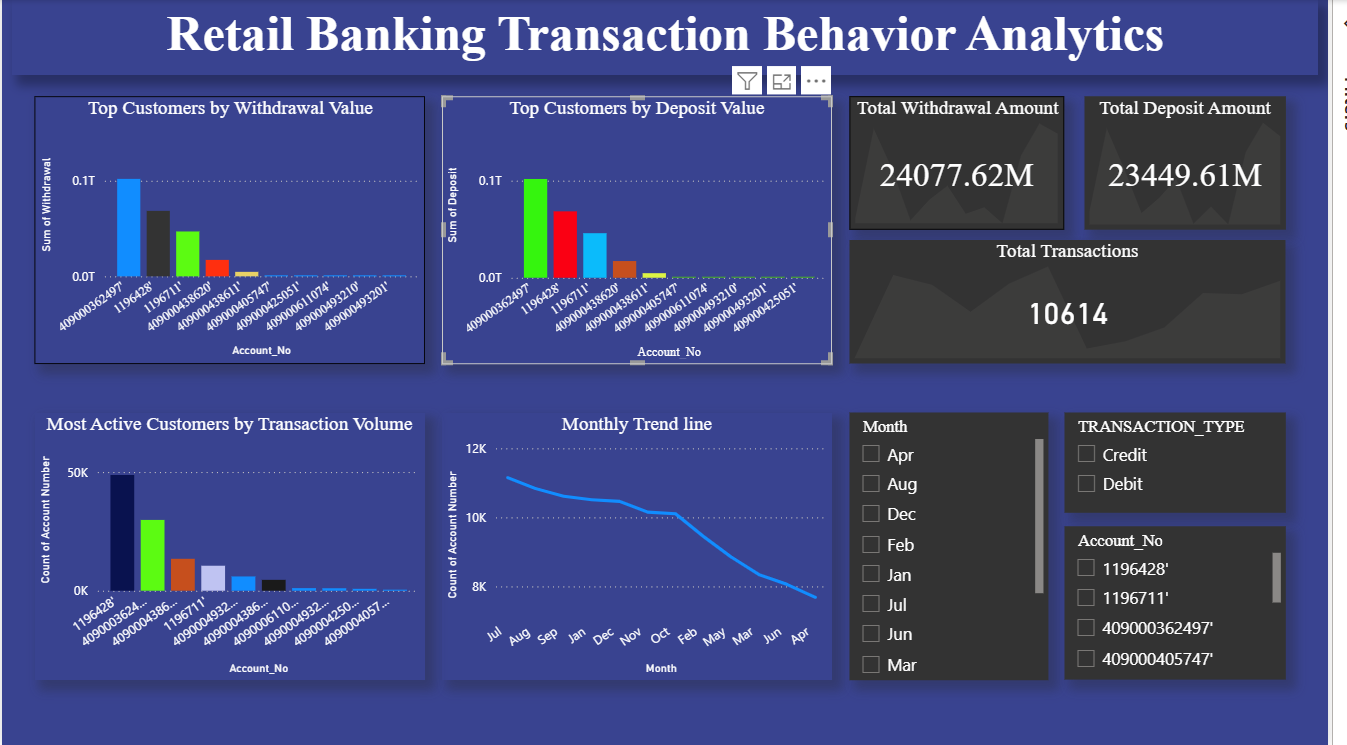

This screenshot's page, from the dashboard's own definition file:
{"tool":"powerbi","page":{"name":"Page 1","canvas":[1280,720],"ordinal":0},"visuals":[{"type":"textbox","box":[9.6,0,1261.1,72.7],"z":0},{"type":"clusteredColumnChart","title":"Top Customers by Withdrawal Value","fields":{"Category":["Retail_Banking_Transaction_Behavior_Analytics - Pivot Table 1.Account_No"],"Y":["Sum(Retail_Banking_Transaction_Behavior_Analytics.WITHDRAWAL_CLEAN)"]},"box":[31.8,92.9,376.6,258],"z":1},{"type":"clusteredColumnChart","title":"Most Active Customers by Transaction Volume","fields":{"Y":["CountNonNull(Retail_Banking_Transaction_Behavior_Analytics.Account_No)"],"Category":["Retail_Banking_Transaction_Behavior_Analytics.Account_No"]},"box":[31.8,398.6,376.6,258],"z":2},{"type":"clusteredColumnChart","title":"Top Customers by Deposit Value","fields":{"Category":["Retail_Banking_Transaction_Behavior_Analytics - Pivot Table 1.Account_No"],"Y":["Sum(Retail_Banking_Transaction_Behavior_Analytics.DEPOSIT_CLEAN)"]},"box":[424.7,92.9,376.4,258.2],"z":3},{"type":"lineChart","title":"Monthly Trend line","fields":{"Category":["Retail_Banking_Transaction_Behavior_Analytics.Month"],"Y":["CountNonNull(Retail_Banking_Transaction_Behavior_Analytics.Account_No)"]},"box":[424.7,398.1,376.4,258.2],"z":4},{"type":"kpi","title":"Total Withdrawal Amount","fields":{"Indicator":["Sum(Retail_Banking_Transaction_Behavior_Analytics.WITHDRAWAL_CLEAN)"],"TrendLine":["Retail_Banking_Transaction_Behavior_Analytics.Month"]},"box":[818,92.9,207.5,129.1],"z":5},{"type":"kpi","title":"Total Deposit Amount","fields":{"Indicator":["Sum(Retail_Banking_Transaction_Behavior_Analytics.DEPOSIT_CLEAN)"],"TrendLine":["Retail_Banking_Transaction_Behavior_Analytics.Month"]},"box":[1044.8,92.9,194.2,129.1],"z":6},{"type":"slicer","fields":{"Values":["Retail_Banking_Transaction_Behavior_Analytics.Month"]},"box":[818,398.1,191.8,258.2],"z":7},{"type":"slicer","fields":{"Values":["Retail_Banking_Transaction_Behavior_Analytics.TRANSACTION_TYPE"]},"box":[1025.5,398.1,213.5,96.5],"z":8},{"type":"slicer","fields":{"Values":["Retail_Banking_Transaction_Behavior_Analytics - Pivot Table 1.Account_No"]},"box":[1025.5,507.9,213.5,148.4],"z":9},{"type":"kpi","title":"Total Transactions","fields":{"Indicator":["CountNonNull(Retail_Banking_Transaction_Behavior_Analytics.Account_No)"],"TrendLine":["Retail_Banking_Transaction_Behavior_Analytics.Month"]},"box":[818,231.6,421,119.4],"z":10}]}

Visuals, with their boxes in screenshot pixels (x1, y1, x2, y2), scaled from the page's 1280x720 canvas onto the 1347x745 screenshot:
textbox: select_region(10, 0, 1337, 75)
"Top Customers by Withdrawal Value" clusteredColumnChart: select_region(33, 96, 430, 363)
"Most Active Customers by Transaction Volume" clusteredColumnChart: select_region(33, 412, 430, 679)
"Top Customers by Deposit Value" clusteredColumnChart: select_region(447, 96, 843, 363)
"Monthly Trend line" lineChart: select_region(447, 412, 843, 679)
"Total Withdrawal Amount" kpi: select_region(861, 96, 1079, 230)
"Total Deposit Amount" kpi: select_region(1099, 96, 1304, 230)
slicer - Retail_Banking_Transaction_Behavior_Analytics.Month: select_region(861, 412, 1063, 679)
slicer - Retail_Banking_Transaction_Behavior_Analytics.TRANSACTION_TYPE: select_region(1079, 412, 1304, 512)
slicer - Retail_Banking_Transaction_Behavior_Analytics - Pivot Table 1.Account_No: select_region(1079, 526, 1304, 679)
"Total Transactions" kpi: select_region(861, 240, 1304, 363)
